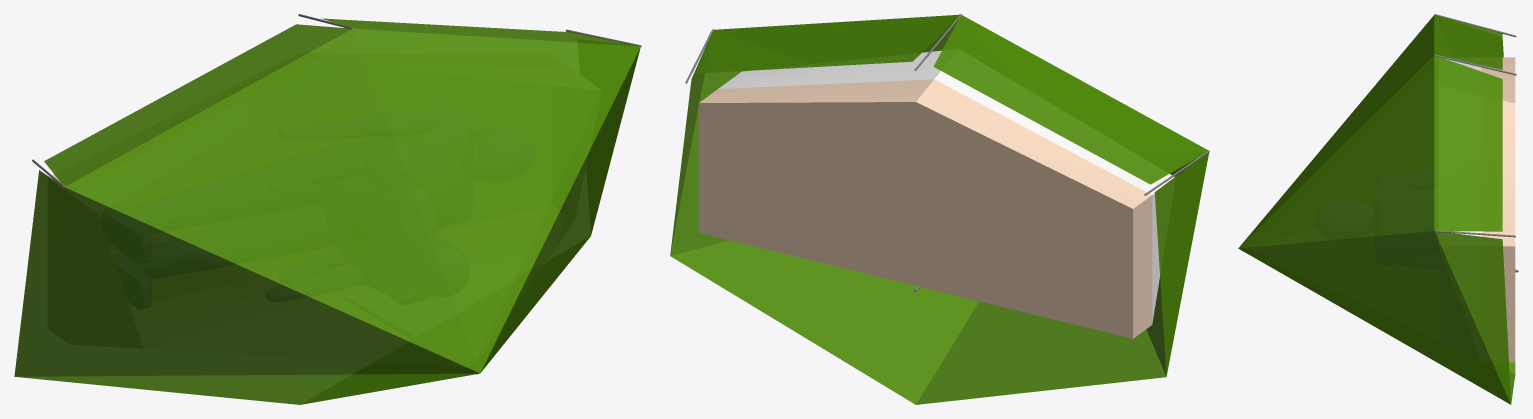
The model's file is Tent_Delta.glb.
The picture shows the model from 3 angles, left to right: view 1: azimuth 30°, elevation 25°; view 2: azimuth 150°, elevation 25°; view 3: azimuth 270°, elevation 25°; orthographic projection. The views are drawn at different scales.
Visible parts, largest first — view 1: Part1-1; view 2: Part6-1, Part1-1; view 3: Part1-1, Part6-1.
Boxes of the visible parts, x1=… form: Part1-1: x1=14, y1=18, x2=640, y2=404; Part6-1: x1=698, y1=50, x2=1174, y2=338; Part1-1: x1=670, y1=14, x2=1209, y2=404; Part1-1: x1=1238, y1=15, x2=1515, y2=404; Part6-1: x1=1444, y1=57, x2=1515, y2=362.
Bounding box in the file's own units: 2.41 × 1.65 × 1.32.
